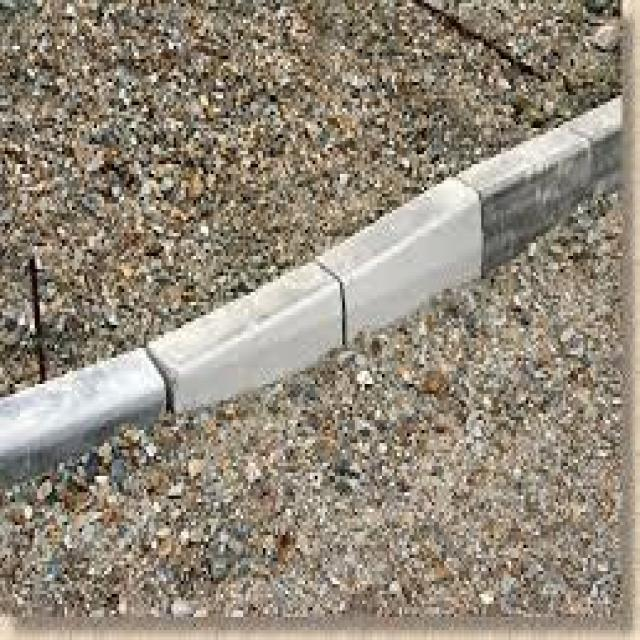bump: (15, 94, 618, 478)
